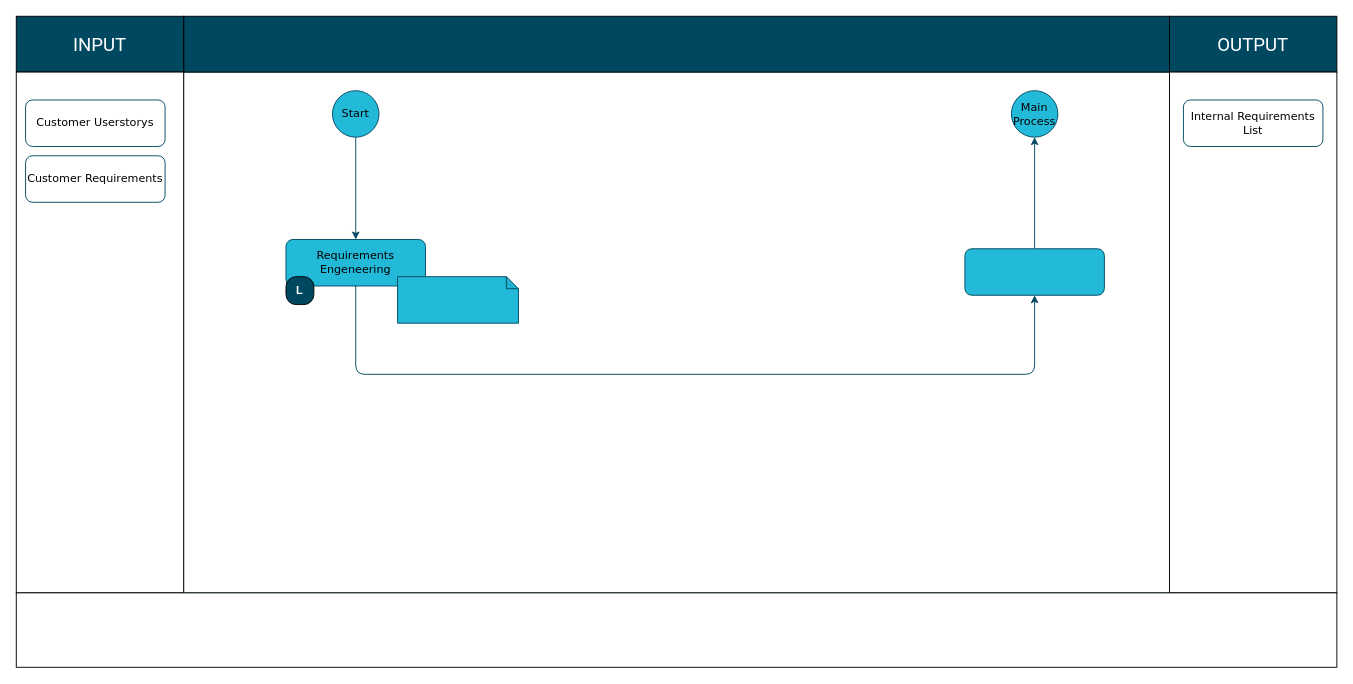
This 1353x684 diagram has some shape labels left out. Each missing label, with the centre of its shape:
"- List for User Stories - Requirements List" goes at pixel 457 299.
"Responsibilties" goes at pixel 676 629.
"SYSTEM REQUIREMENTS ANALYSIS" goes at pixel 676 43.
"System Requirements Review" goes at pixel 1034 271.
